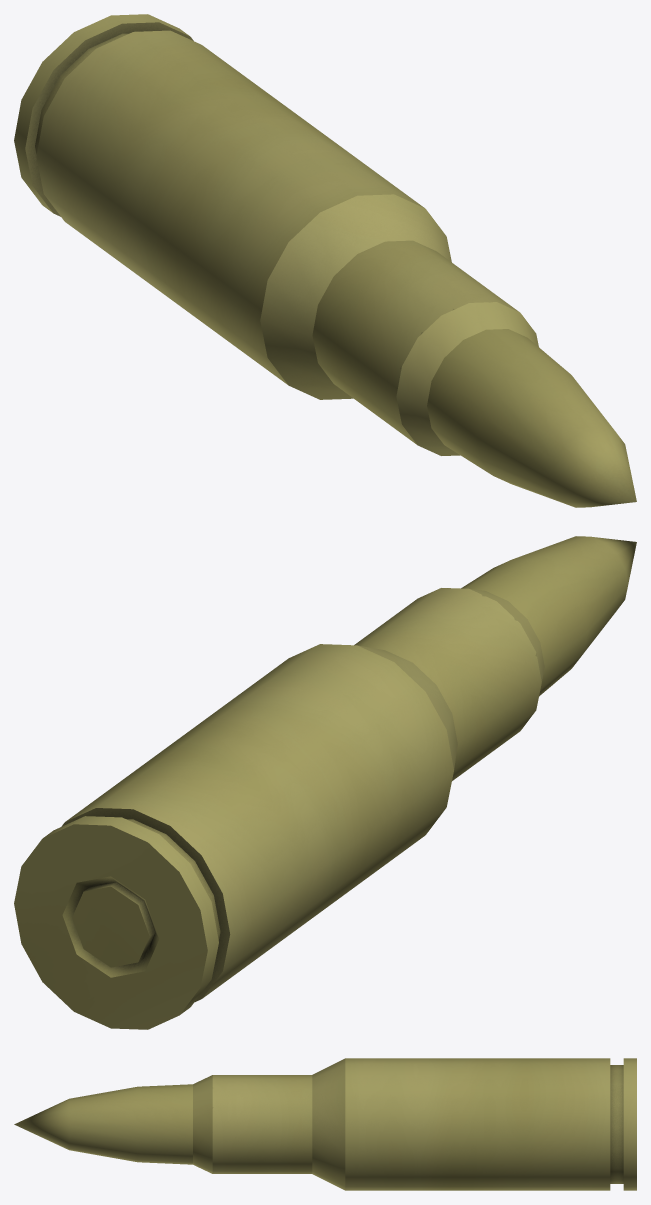
File: sniper_rifle_bullet.fbx
The picture shows the model from 3 angles, top to bottom: view 1: azimuth 30°, elevation 25°; view 2: azimuth 150°, elevation 25°; view 3: azimuth 270°, elevation 25°; orthographic projection. The views are drawn at different scales.
Visible parts, largest first — view 1: sniper_rifle_bullet_shell, sniper_rifle_bullet; view 2: sniper_rifle_bullet_shell, sniper_rifle_bullet; view 3: sniper_rifle_bullet_shell, sniper_rifle_bullet.
Part boxes in pixels (x1,y1,x2,y2): sniper_rifle_bullet_shell: [14, 14, 538, 455]; sniper_rifle_bullet: [427, 329, 636, 507]; sniper_rifle_bullet_shell: [14, 588, 544, 1029]; sniper_rifle_bullet: [461, 536, 636, 696]; sniper_rifle_bullet_shell: [193, 1058, 636, 1190]; sniper_rifle_bullet: [14, 1084, 192, 1164].
Size of the model in its own units: 2.55 by 2.55 by 11.99.
